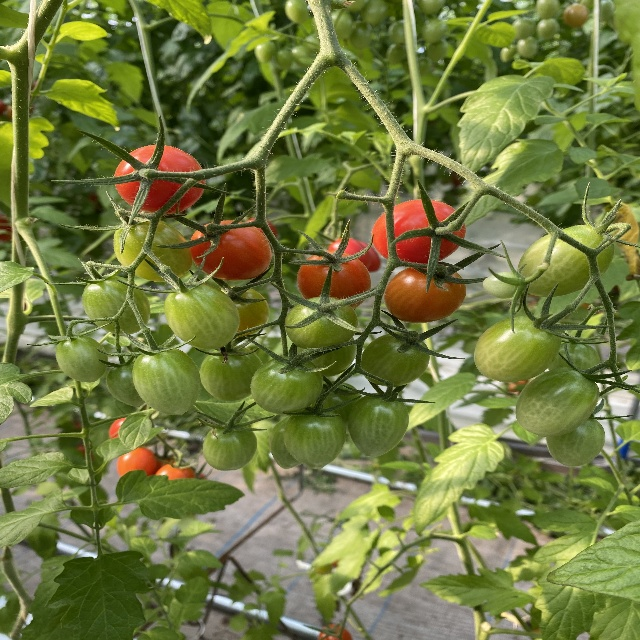l_fully_ripened: (113, 144, 206, 215), (372, 198, 465, 266), (189, 220, 273, 282), (296, 251, 372, 311)
l_green: (516, 224, 614, 298), (474, 315, 562, 382), (516, 367, 600, 437), (165, 282, 242, 351), (111, 218, 192, 282), (133, 346, 202, 416), (249, 354, 323, 413), (82, 274, 151, 335), (283, 295, 358, 351), (347, 393, 410, 458), (360, 332, 430, 387), (283, 408, 346, 469), (200, 346, 263, 401), (545, 415, 606, 467), (292, 334, 358, 378), (55, 332, 108, 382), (203, 425, 258, 471), (309, 382, 362, 426), (549, 342, 601, 382), (105, 362, 144, 407), (269, 414, 300, 469), (481, 271, 524, 298)
l_half_ripened: (383, 264, 466, 323), (219, 286, 268, 341)
